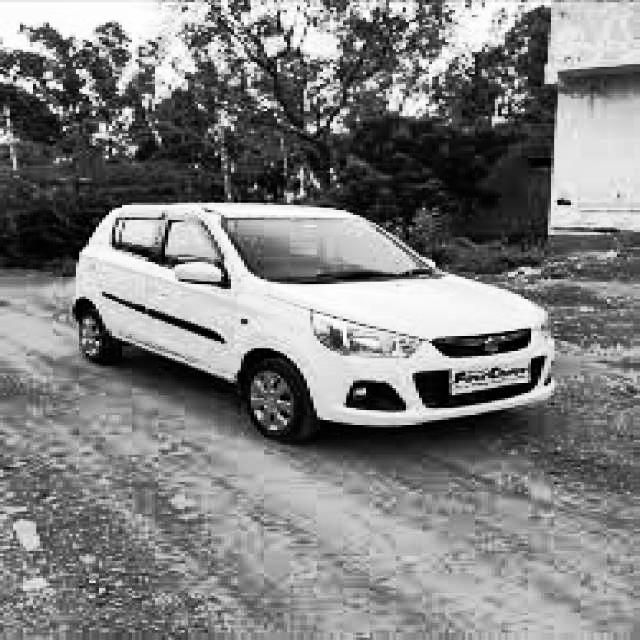Car: (81, 196, 573, 447)
